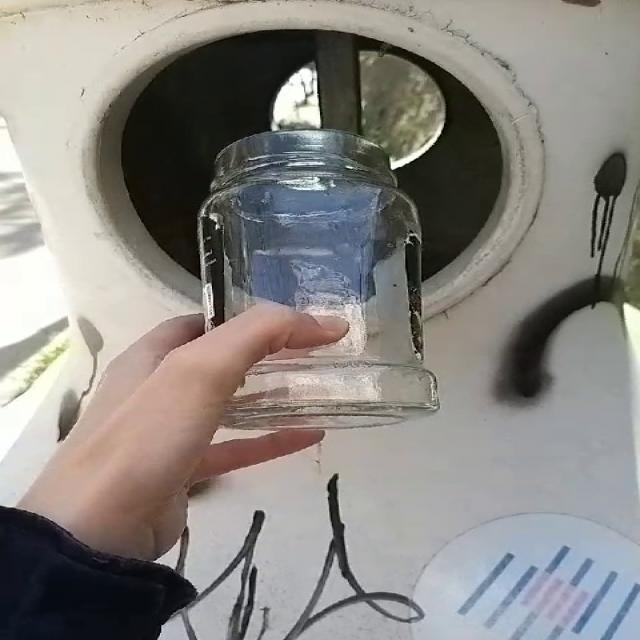glass: (199, 130, 437, 430)
